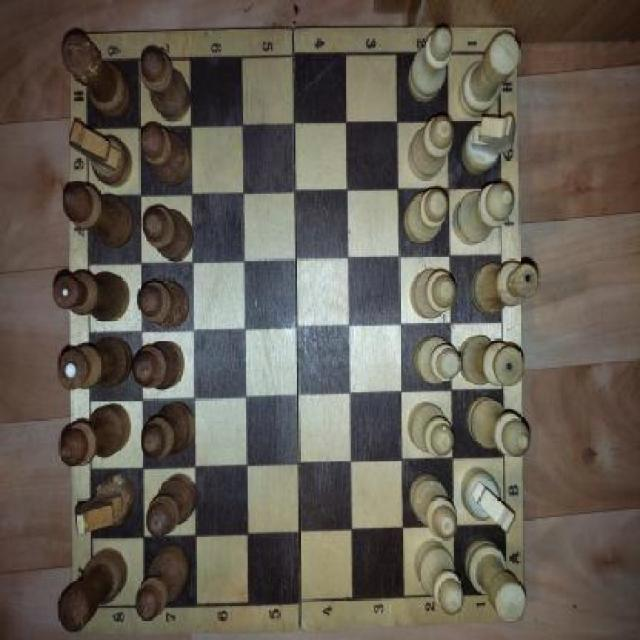chess-table-corners: (68, 31, 108, 91), (73, 580, 115, 637), (476, 28, 516, 84), (486, 562, 523, 620)
